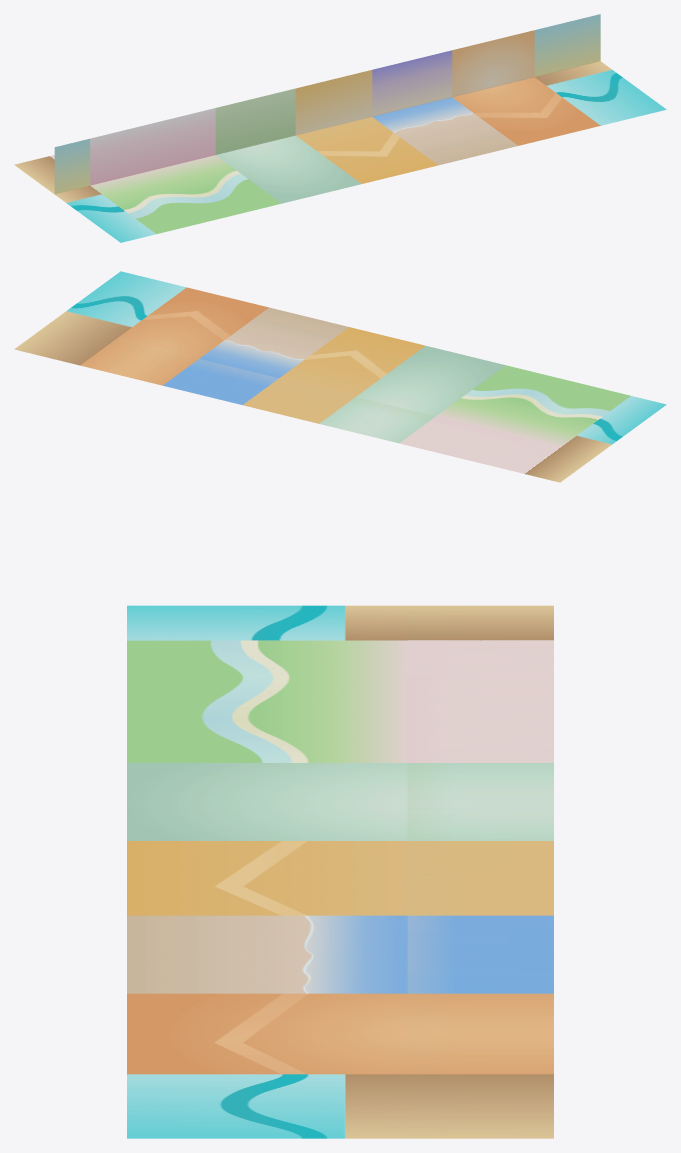
File: Spacial_BG_index_split_opt.glb
3 renders of one model, top to bottom at view 1: azimuth 30°, elevation 25°; view 2: azimuth 150°, elevation 25°; view 3: azimuth 270°, elevation 25°, orthographic. The views are drawn at different scales.
Visible parts, largest first — view 1: scene_01_floor, scene_01_floorb, scene_05_floor, scene_02_floor, scene_04_floor, scene_03_floor, scene_06_floor, scene_01_wall, scene_05_wall, scene_02_wall, scene_04_wall, scene_03_wall (+2 smaller); view 2: scene_01_floor, scene_05_floor, scene_02_floor, scene_04_floor, scene_03_floor, scene_01_floorb, scene_06_floor; view 3: scene_01_floor, scene_05_floor, scene_04_floor, scene_02_floor, scene_03_floor, scene_01_floorb, scene_06_floor.
Part boxes in pixels (<box>): scene_01_floor: <box>126,155,281,225</box>; scene_01_floorb: <box>14,155,191,242</box>; scene_05_floor: <box>452,77,600,145</box>; scene_02_floor: <box>216,135,361,203</box>; scene_04_floor: <box>373,97,517,165</box>; scene_03_floor: <box>296,117,437,183</box>; scene_06_floor: <box>535,61,666,125</box>; scene_01_wall: <box>126,108,215,176</box>; scene_05_wall: <box>452,30,534,97</box>; scene_02_wall: <box>215,88,295,154</box>; scene_04_wall: <box>372,50,452,116</box>; scene_03_wall: <box>295,70,372,135</box>; scene_01_floor: <box>399,365,594,465</box>; scene_05_floor: <box>80,287,268,385</box>; scene_02_floor: <box>319,346,505,443</box>; scene_04_floor: <box>163,307,348,404</box>; scene_03_floor: <box>243,327,425,423</box>; scene_01_floorb: <box>489,387,666,482</box>; scene_06_floor: <box>14,271,186,365</box>; scene_01_floor: <box>127,675,553,762</box>; scene_05_floor: <box>127,993,553,1074</box>; scene_04_floor: <box>127,915,553,993</box>; scene_02_floor: <box>127,763,553,840</box>; scene_03_floor: <box>127,841,553,915</box>; scene_01_floorb: <box>127,605,553,675</box>; scene_06_floor: <box>127,1074,553,1138</box>.
Size of the model in its own units: 77.83 by 6.42 by 26.36.
7 materials, 7 textured.
